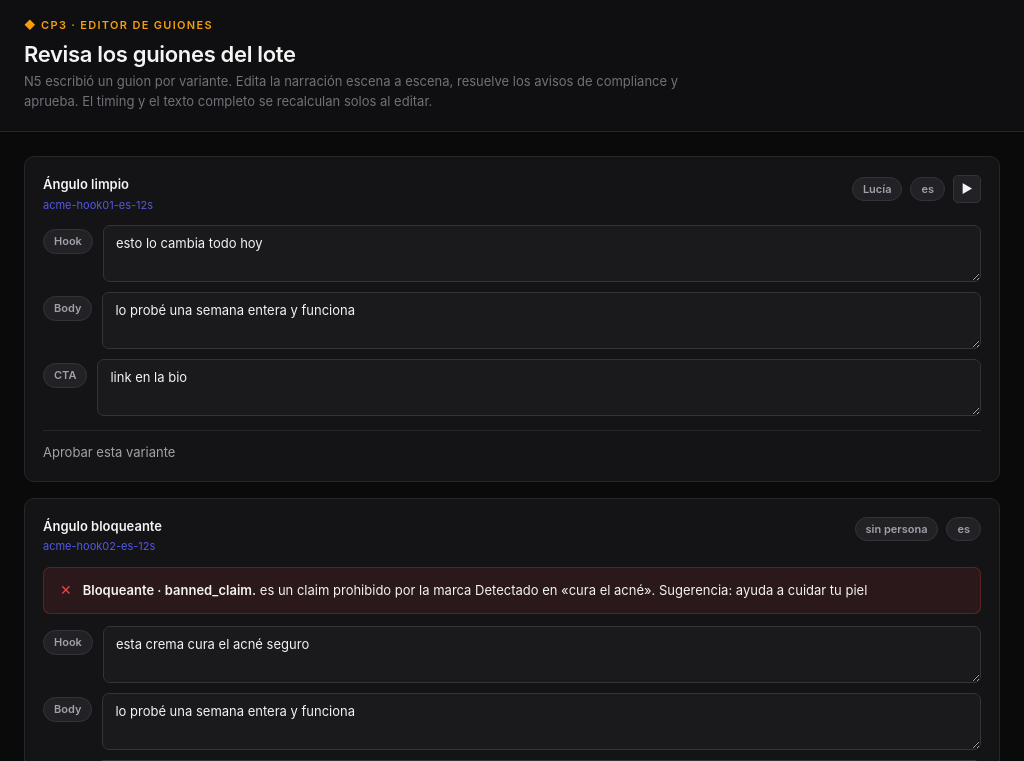
Test case: ScriptsPanel (CP3) › T5.14 control negativo: aprobar UNA variante re-habilita «Confirmar» y quita el aviso
The image size is (1024, 761).
Note: Aprobar la variante limpia (sin flag bloqueante): 1/2 aprobadas.
Click the checkbox labelled "Aprobar esta variante".
click(109, 453)  # box [43,443,176,463]
(page scrolled)
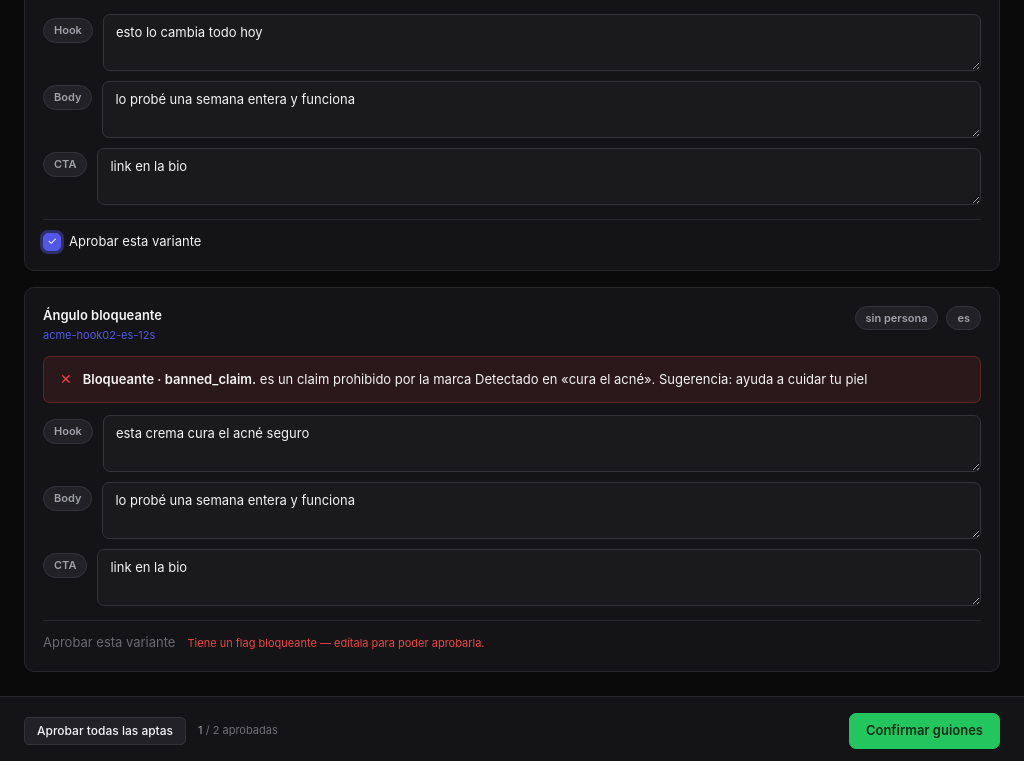
Result: the button "Confirmar guiones" is enabled at [849,713,1000,749]
